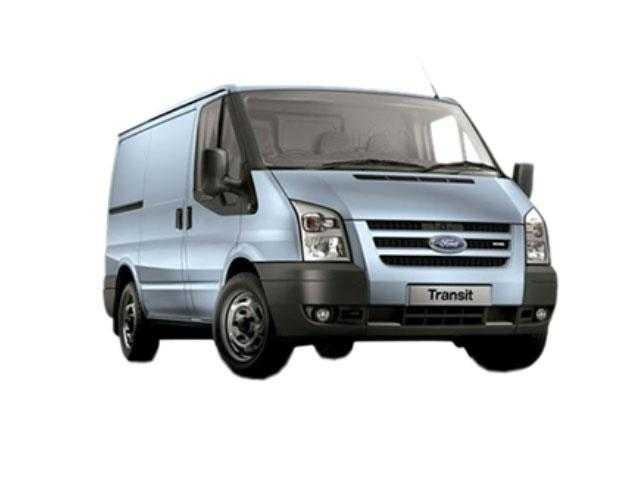van: (103, 83, 558, 380)
